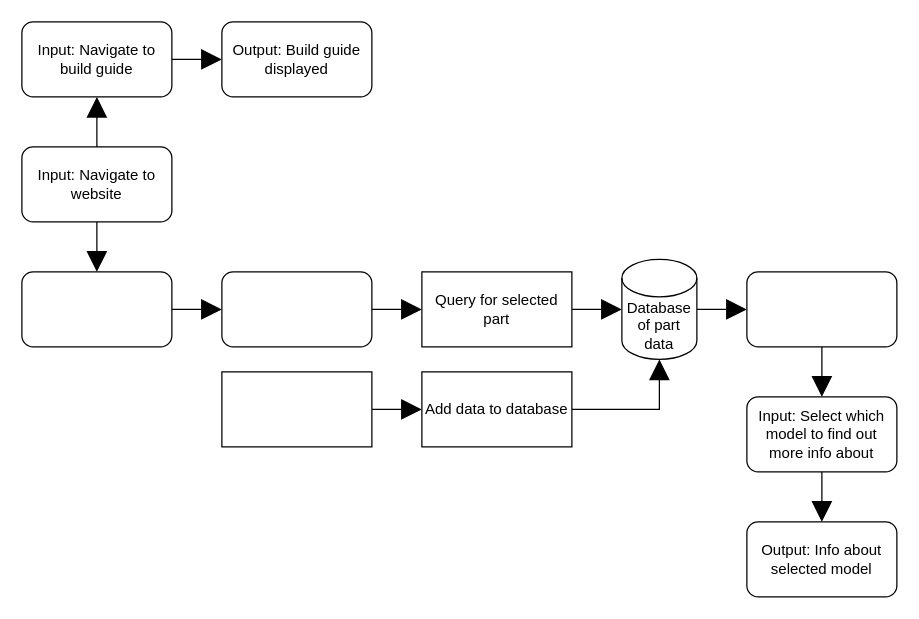
The diagram is 919 pixels wide and 619 high, and some of its shapes have lost their labels. The box of each missing label's shape, as (x1, y1, x2, y2) in pixels:
Input: Navigate to part search: (21, 271, 172, 347)
Input: Select which part to search for: (221, 271, 372, 347)
Output: Part data to user: (746, 271, 897, 347)
Query common stores/benchmark sites for part data: (221, 371, 372, 447)
